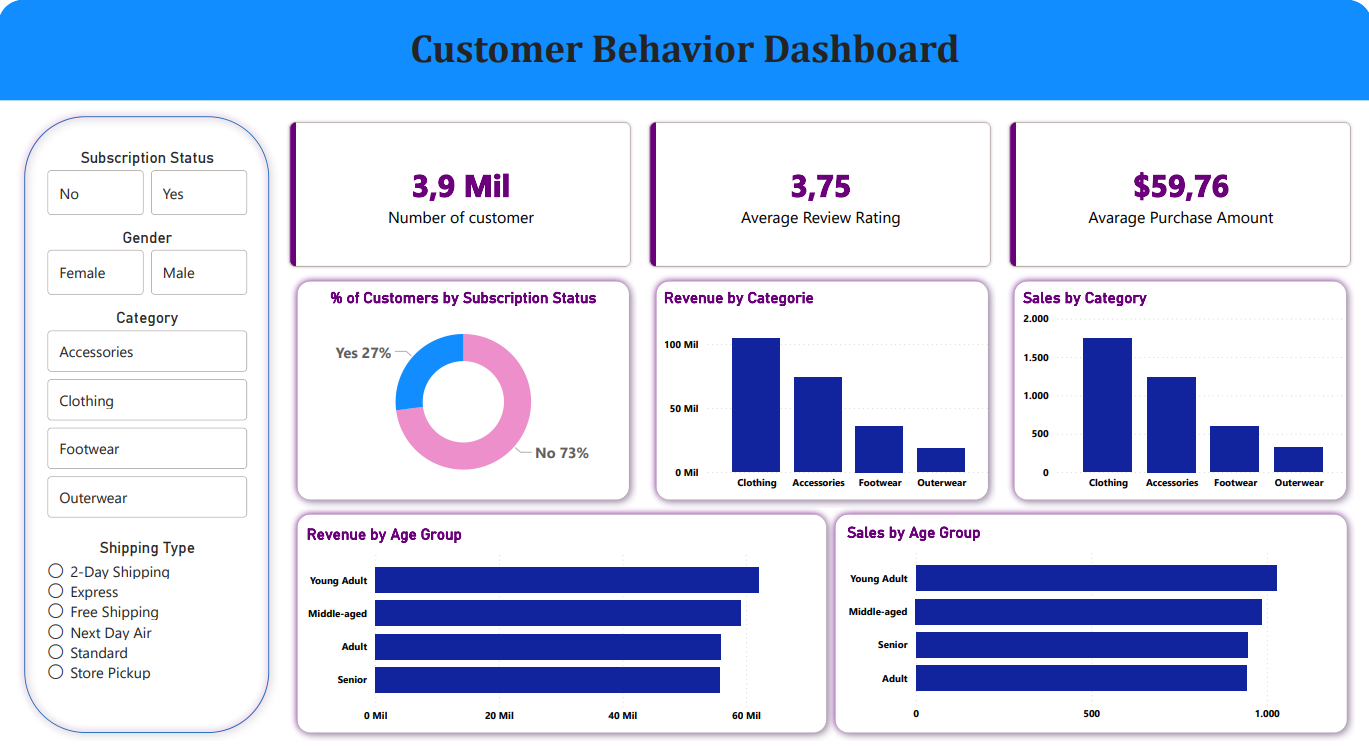

This screenshot's page, from the dashboard's own definition file:
{"tool":"powerbi","page":{"name":"Página 1","canvas":[1500,820],"ordinal":0},"visuals":[{"type":"cardVisual","fields":{"Data":["public customer.Number of customer","public customer.Average Review Rating","public customer.Avarage Purchase Amount"]},"box":[294.8,110.1,1205.5,205],"z":0},{"type":"shape","box":[0,0,1500.3,110.1],"z":1000},{"type":"textbox","box":[0,22.4,1500.3,87.7],"z":2000},{"type":"shape","box":[318.2,298.8,379.4,255],"z":3000},{"type":"shape","box":[709.9,298.8,379.4,255],"z":4000},{"type":"shape","box":[1101.5,298.8,379.4,255],"z":5000},{"type":"clusteredColumnChart","title":"Revenue by Categorie","fields":{"Y":["Sum(public customer.purchase_amount)"],"Category":["public customer.category"]},"box":[722.1,315.1,367.2,228.5],"z":6000},{"type":"donutChart","title":"% of Customers by Subscription Status","fields":{"Category":["public customer.subscription_status"],"Y":["CountNonNull(public customer.customer_id)"]},"box":[352.9,315.1,310,228.5],"z":7000},{"type":"clusteredColumnChart","title":"Sales by Category","fields":{"Category":["public customer.category"],"Y":["CountNonNull(public customer.customer_id)"]},"box":[1113.7,315.1,367.2,228.5],"z":8000},{"type":"shape","box":[20.4,119.3,284.6,689.5],"z":9000},{"type":"advancedSlicerVisual","fields":{"Values":["public customer.gender"]},"box":[49,248.9,228.5,78.5],"z":10000},{"type":"advancedSlicerVisual","fields":{"Values":["public customer.subscription_status"]},"box":[49,162.2,228.5,78.5],"z":11000},{"type":"advancedSlicerVisual","fields":{"Values":["public customer.category"]},"box":[49,336.6,228.5,236.6],"z":12000},{"type":"listSlicer","fields":{"Values":["public customer.shipping_type"]},"box":[49,588.5,228.5,210.1],"z":13000},{"type":"shape","box":[318.2,552.8,594.6,255],"z":14000},{"type":"clusteredBarChart","title":"Revenue by Age Group","fields":{"Y":["Sum(public customer.purchase_amount)"],"Category":["public customer.age_group"]},"box":[332.5,573.2,573.2,225.4],"z":15000},{"type":"shape","box":[905.7,552.8,575.2,255],"z":16000},{"type":"clusteredBarChart","title":"Sales by Age Group","fields":{"Category":["public customer.age_group"],"Y":["CountNonNull(public customer.customer_id)"]},"box":[922,571.1,558.9,225.4],"z":17000}]}

Visuals, with their boxes in screenshot pixels (x1, y1, x2, y2), scaled from the page's 1500x820 canvas onto the 1369x752 screenshot:
cardVisual - public customer.Number of customer x public customer.Average Review Rating: 269:101:1368:289
shape: 0:0:1368:101
textbox: 0:21:1368:101
shape: 290:274:637:508
shape: 648:274:994:508
shape: 1005:274:1352:508
"Revenue by Categorie" clusteredColumnChart: 659:289:994:499
"% of Customers by Subscription Status" donutChart: 322:289:605:499
"Sales by Category" clusteredColumnChart: 1016:289:1352:499
shape: 19:109:278:742
advancedSlicerVisual - public customer.gender: 45:228:253:300
advancedSlicerVisual - public customer.subscription_status: 45:149:253:221
advancedSlicerVisual - public customer.category: 45:309:253:526
listSlicer - public customer.shipping_type: 45:540:253:732
shape: 290:507:833:741
"Revenue by Age Group" clusteredBarChart: 303:526:827:732
shape: 827:507:1352:741
"Sales by Age Group" clusteredBarChart: 841:524:1352:730
